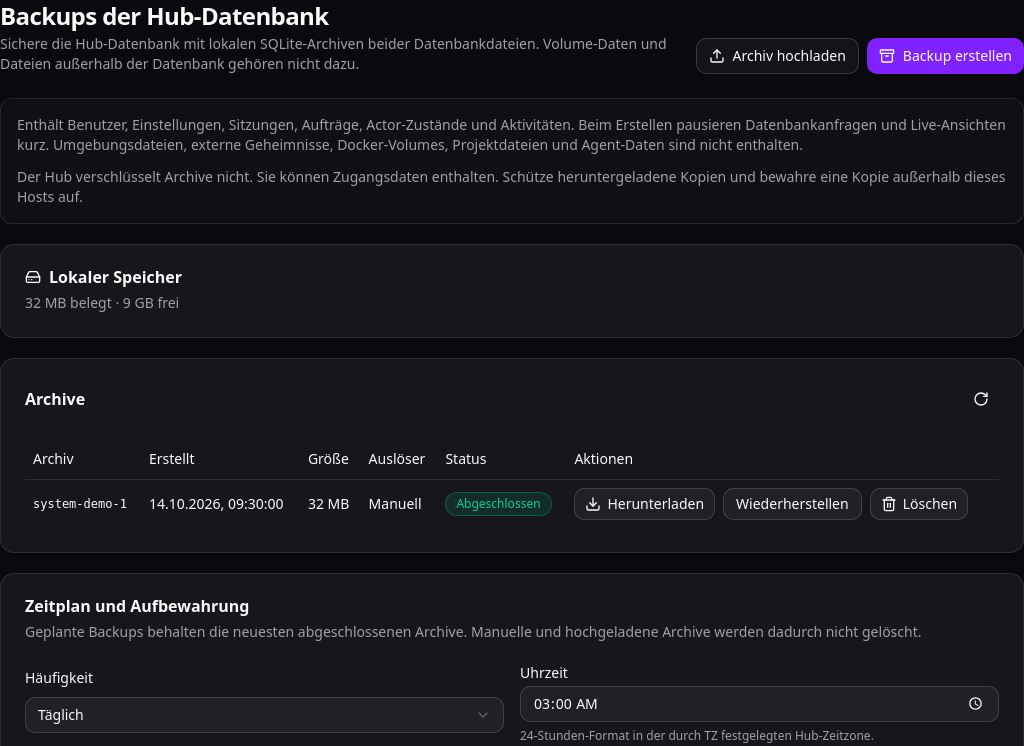
Test: Hub database backup page › requires confirmation before deleting an archive
This screenshot has width=1024, height=746.
expect the text "system-demo-1" is shown: met, box [25,479,141,528]
Click the button "Löschen" at (919, 504), box [870,488,968,520]
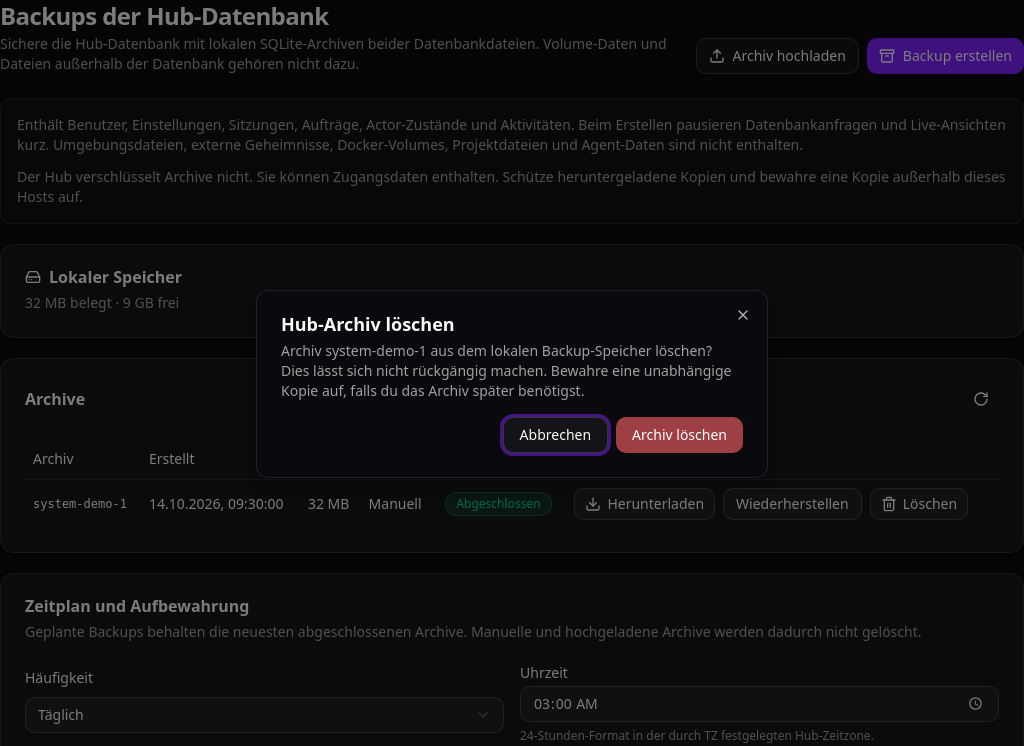
Click the button "Abbrechen" at (555, 435), box [503,417,608,453]
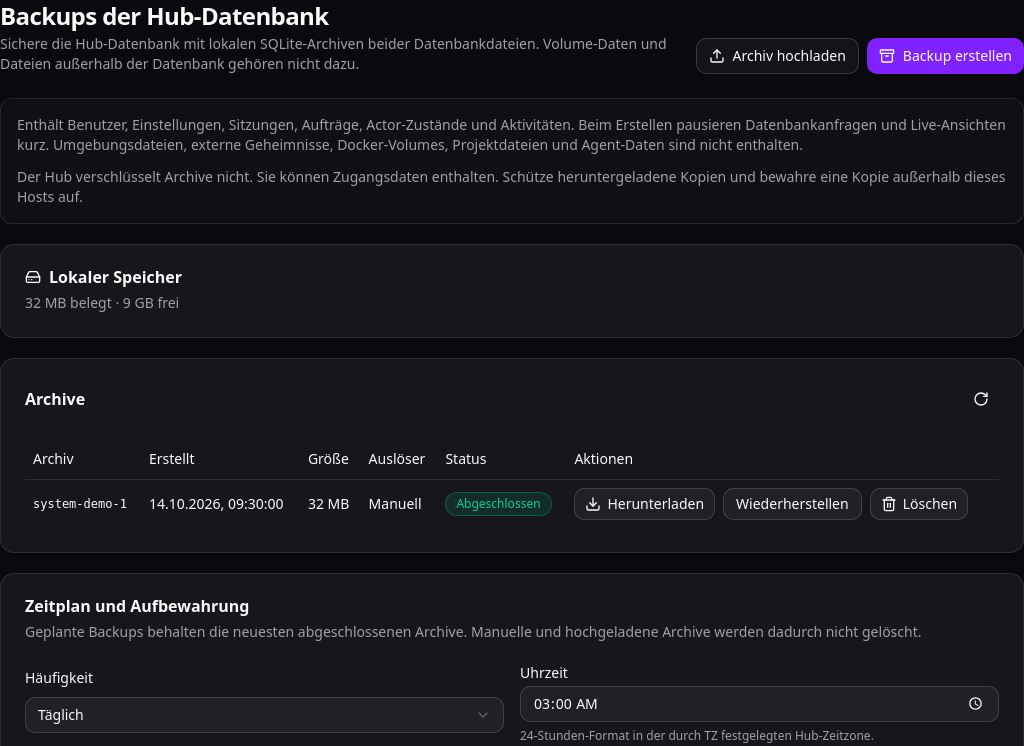
Click the button "Löschen" at (919, 504), box [870,488,968,520]
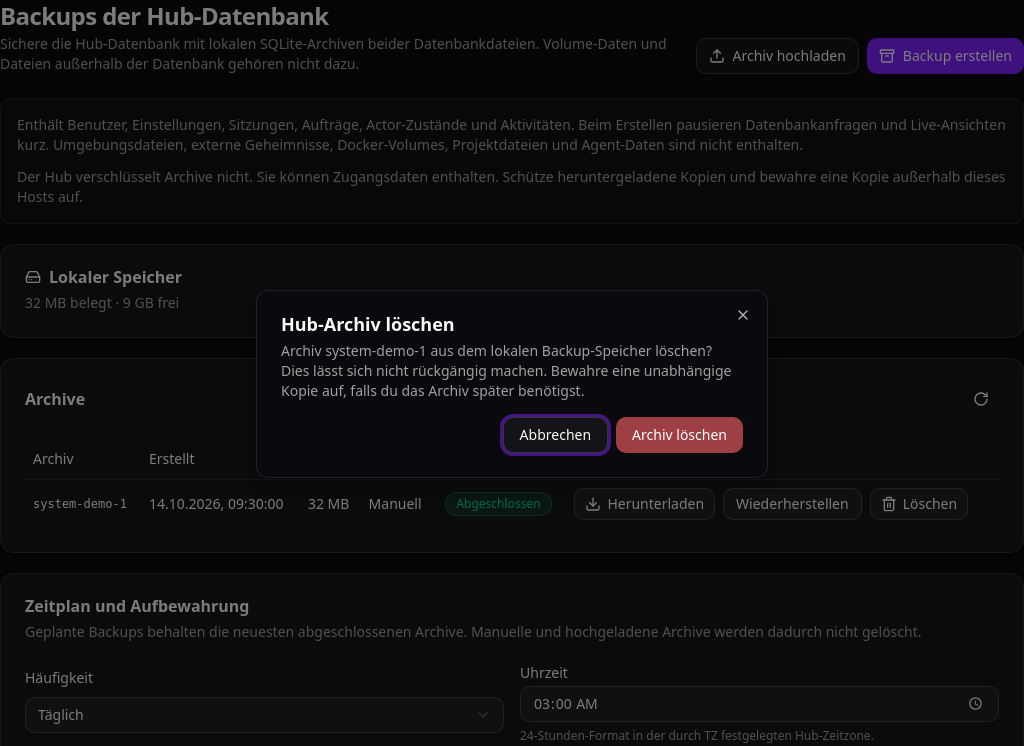
Click the button "Archiv löschen" at (680, 435), box [616,417,743,453]
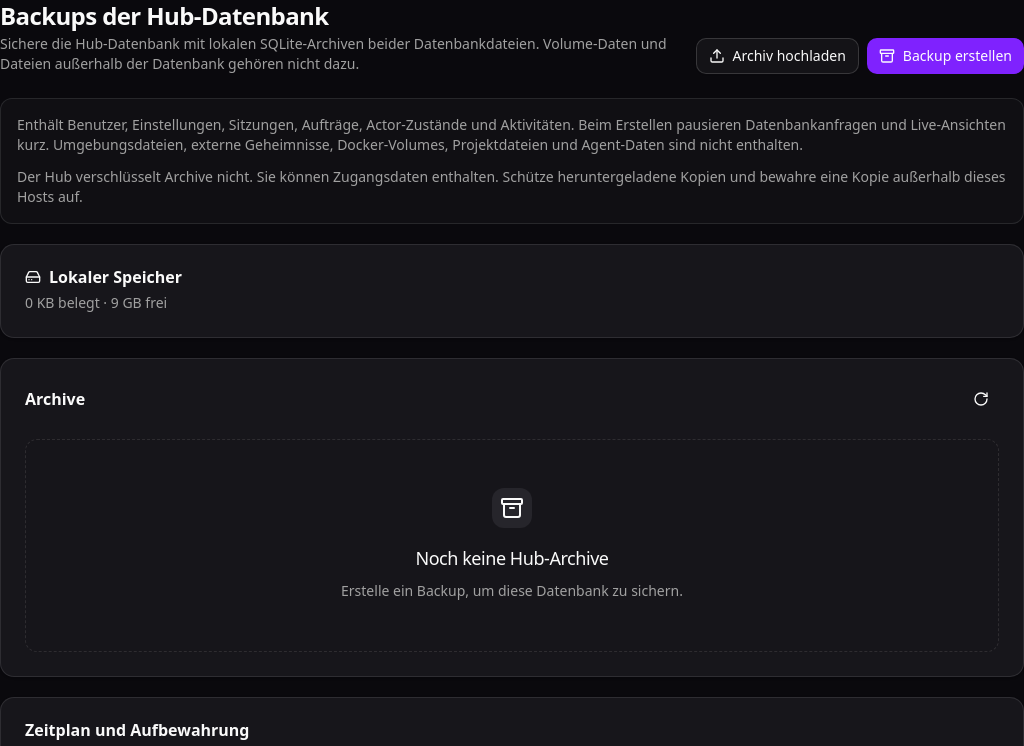
expect the text "system-demo-1" is gone: met
